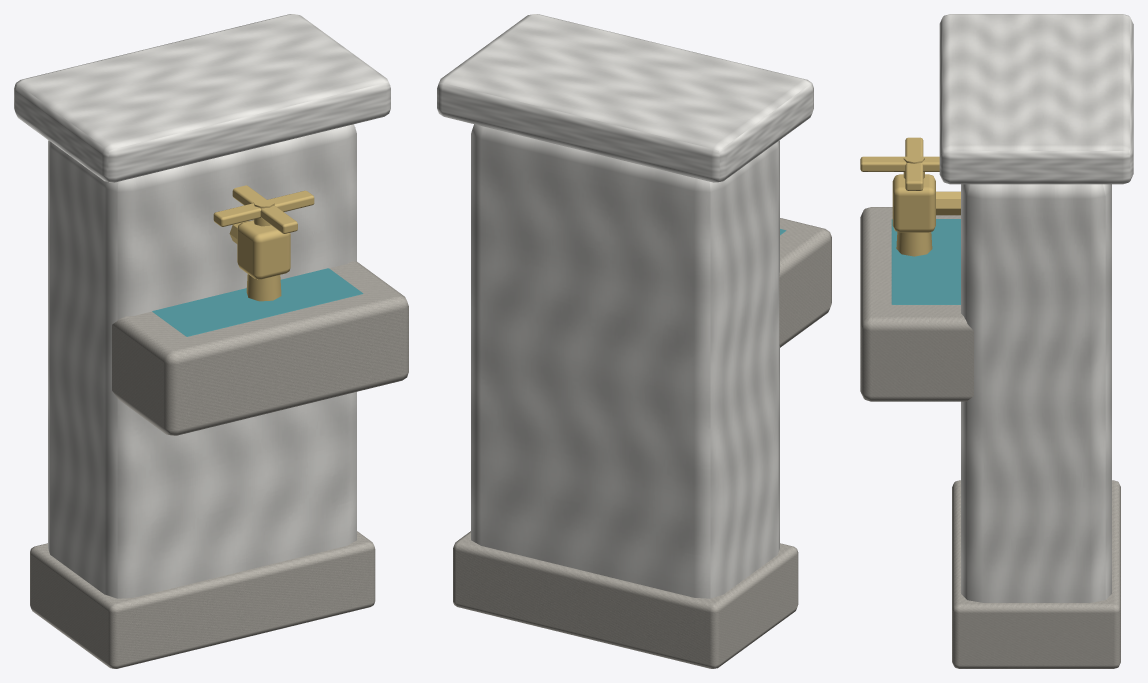
Rendered from greek-island-village-and-harbour-public-tap-a3b8fb41__37115.glb.
3 renders of one model, left to right at view 1: azimuth 30°, elevation 25°; view 2: azimuth 150°, elevation 25°; view 3: azimuth 270°, elevation 25°, orthographic.
Parts seen in each view (by area): view 1: public-tap, tap-handle; view 2: public-tap; view 3: public-tap, tap-handle.
Boxes of the visible parts, x1,y1,x2,y2 form: public-tap: [14, 14, 408, 668]; tap-handle: [213, 185, 314, 233]; public-tap: [437, 14, 831, 668]; public-tap: [860, 14, 1133, 668]; tap-handle: [860, 137, 939, 190].
Bounding box in the file's own units: 0.92 × 1.62 × 0.76.
4 materials, 2 textured.
